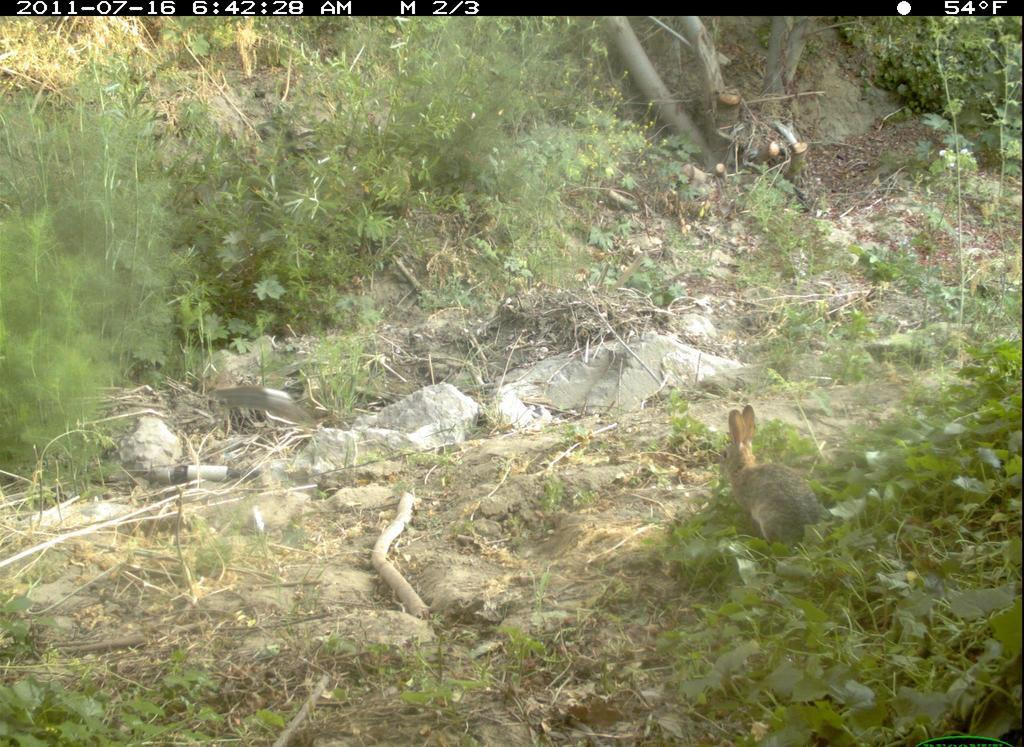rabbit: (720, 399, 835, 543)
